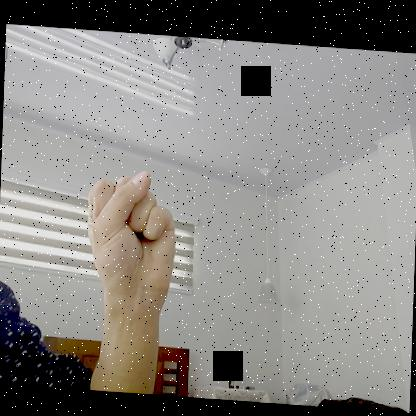S: (84, 164, 179, 309)
